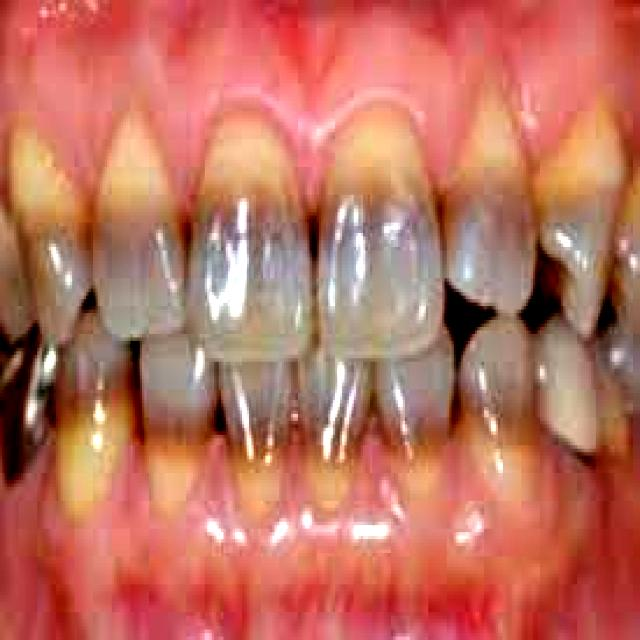tooth-discoloration: (0, 198, 312, 355), (319, 198, 442, 351), (445, 195, 533, 310), (375, 323, 454, 445), (540, 205, 612, 323), (300, 344, 370, 459), (219, 362, 296, 459), (463, 317, 531, 424), (144, 334, 202, 428), (72, 313, 130, 390)
